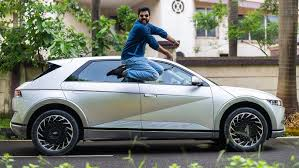Honda Ioniq: (7, 54, 290, 154)
